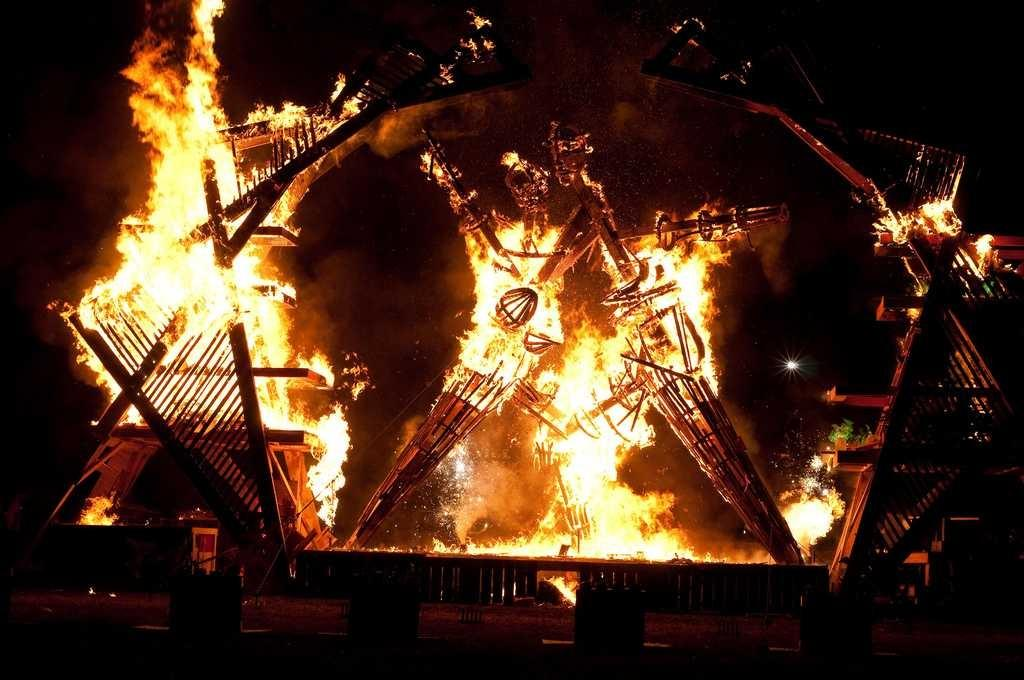fire: (137, 68, 232, 330), (560, 375, 652, 480), (580, 487, 692, 560), (472, 248, 552, 350), (653, 245, 708, 347), (783, 500, 842, 545)
